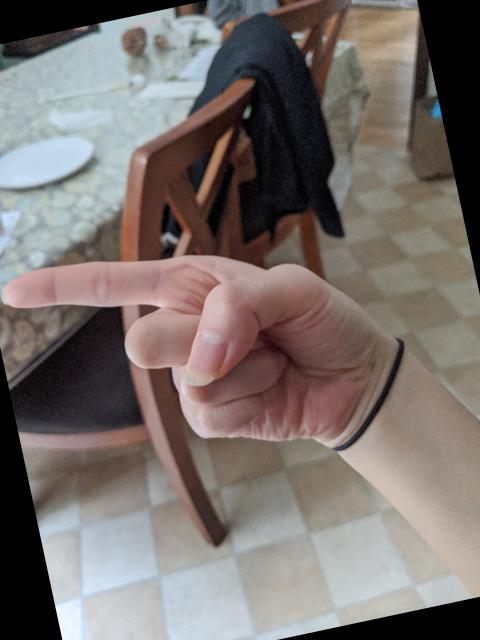G: (0, 196, 403, 507)
